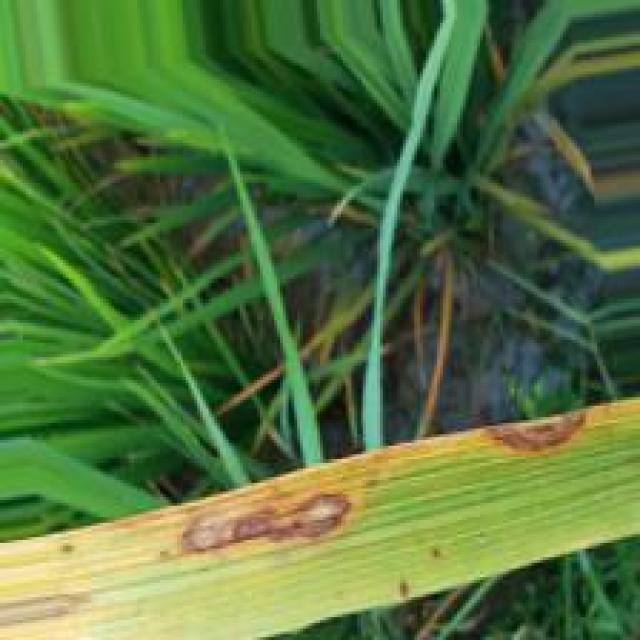Leaf_Blast: (101, 476, 363, 560), (480, 397, 637, 464)
